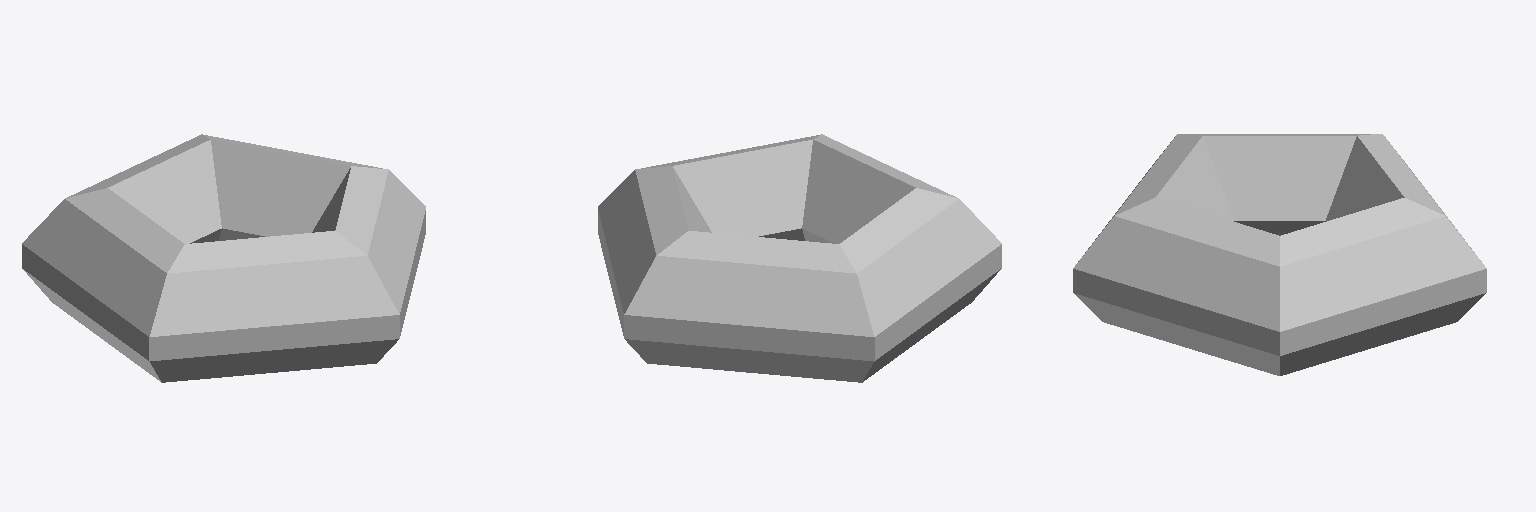
Rendered from magicWand_stick4_move.obj.
3 renders of one model, left to right at view 1: azimuth 30°, elevation 25°; view 2: azimuth 150°, elevation 25°; view 3: azimuth 270°, elevation 25°, orthographic.
Parts seen in each view (by area): view 1: magicWand_stick4_move; view 2: magicWand_stick4_move; view 3: magicWand_stick4_move.
Boxes of the visible parts, x1=… form: magicWand_stick4_move: x1=22, y1=134, x2=425, y2=382; magicWand_stick4_move: x1=598, y1=134, x2=1001, y2=382; magicWand_stick4_move: x1=1073, y1=134, x2=1486, y2=375.
Bounding box in the file's own units: 0.2541 × 0.0951 × 0.2672.